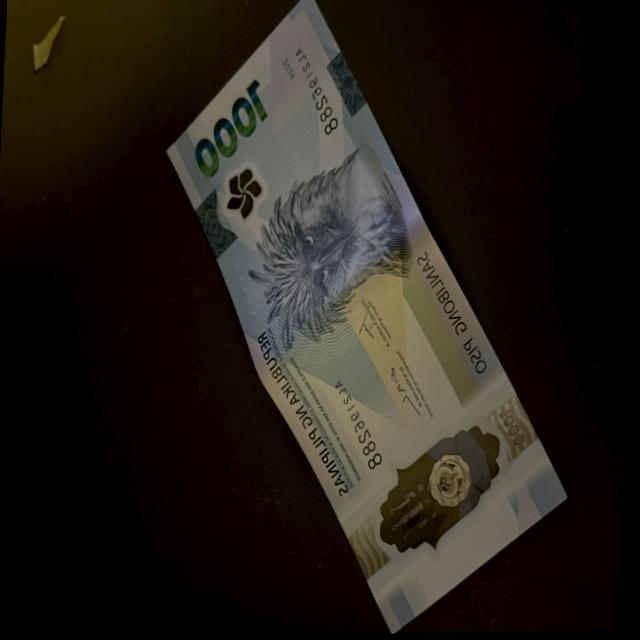clear_window: (376, 428, 503, 553)
eagle: (255, 138, 406, 313)
sampaguita: (217, 148, 267, 233)
